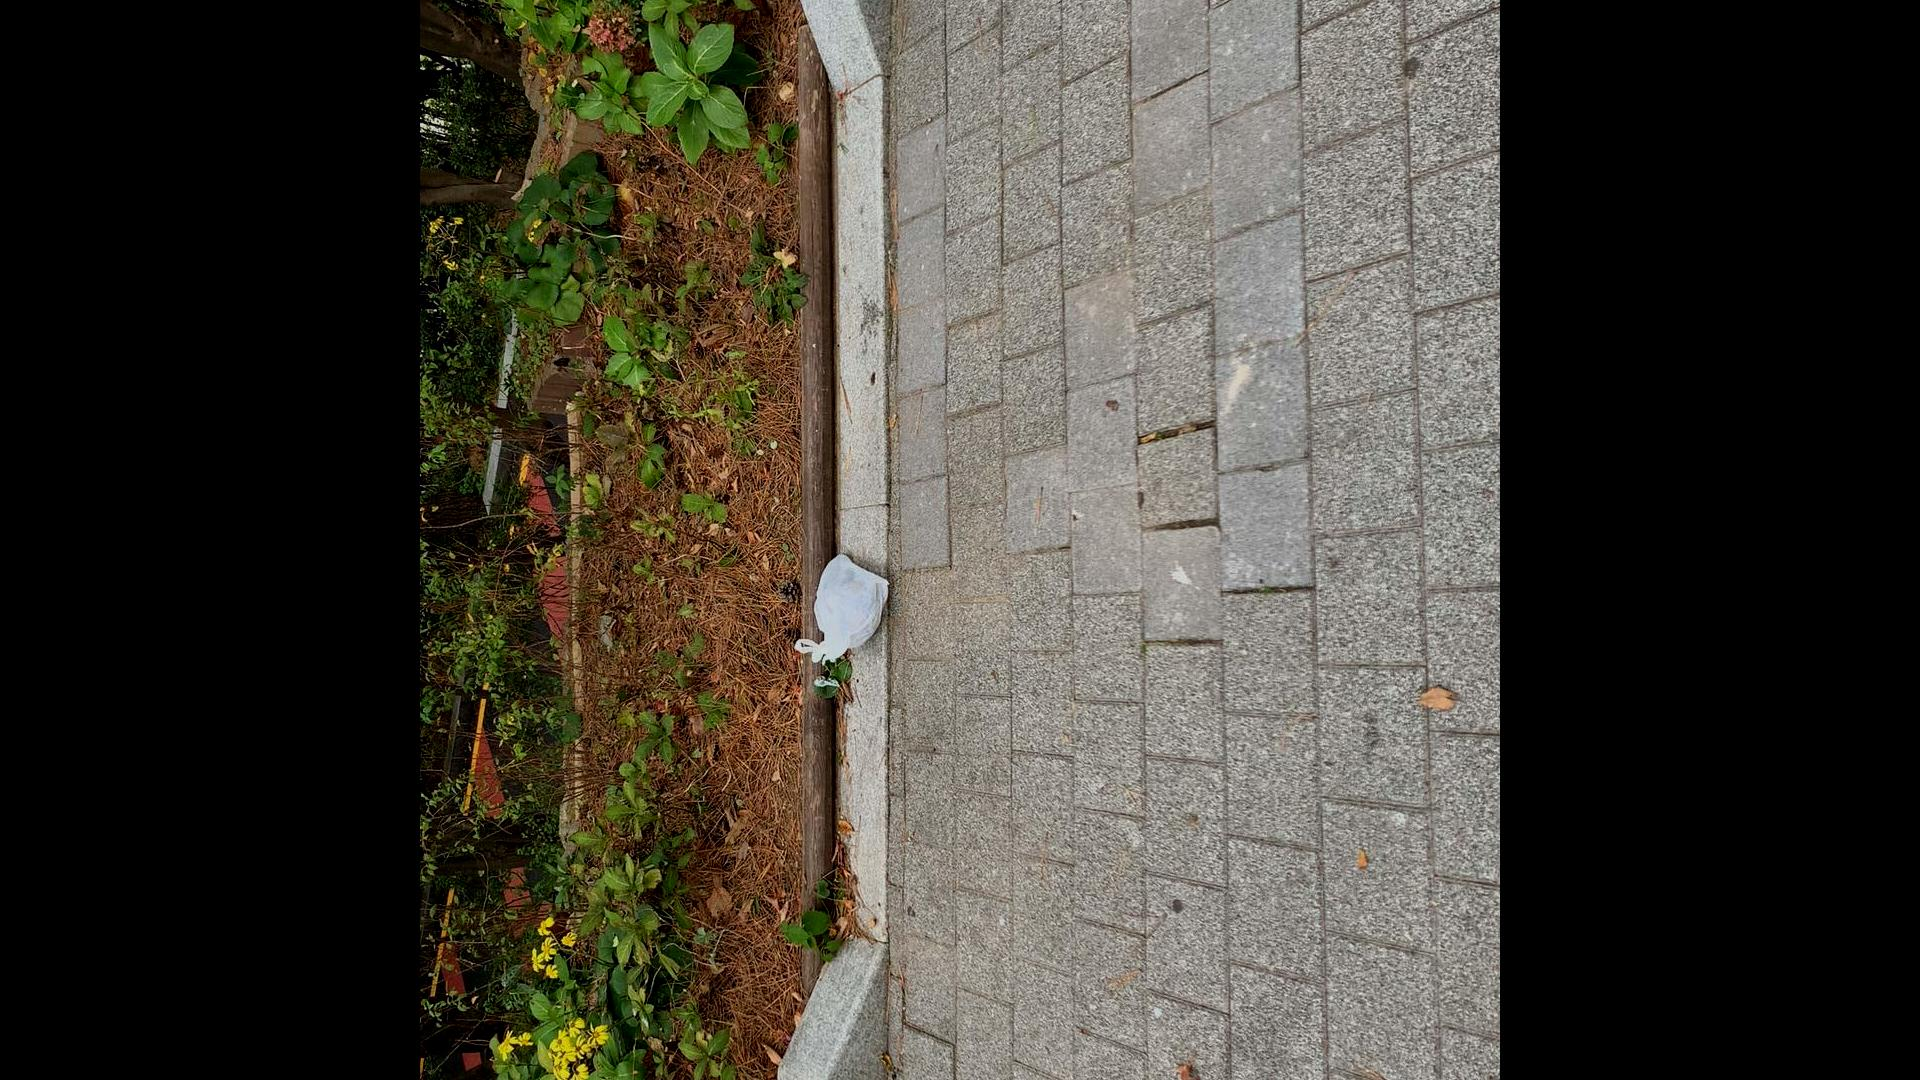white_bag: (787, 545, 899, 667)
